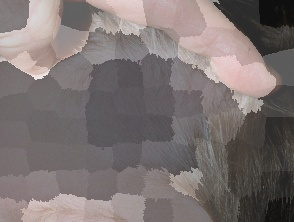vitiligo: (2, 10, 236, 194)
